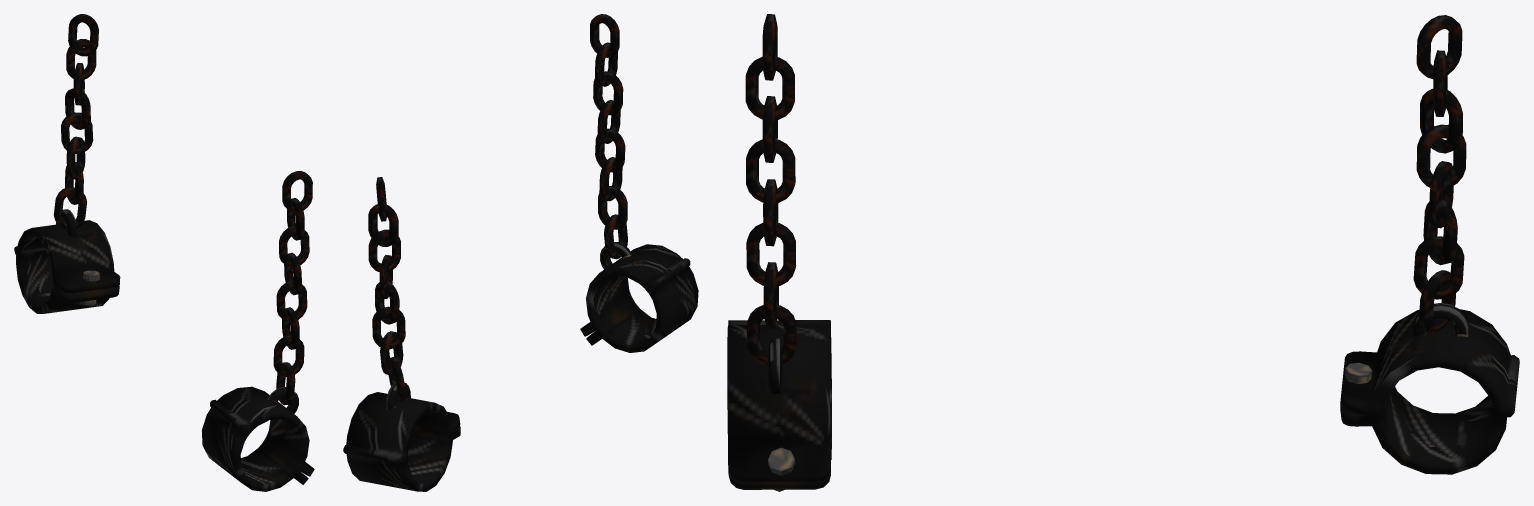
The model's file is Chain_Fixed.fbx.
3 renders of one model, left to right at view 1: azimuth 30°, elevation 25°; view 2: azimuth 150°, elevation 25°; view 3: azimuth 270°, elevation 25°, orthographic. The views are drawn at different scales.
Visible parts, largest first — view 1: Grilletes.003, Grilletes.002, Chains_Main.019, Chains_Main.026; view 2: Grilletes.002, Grilletes.003, Chains_Main.019, Chains_Main.026; view 3: Grilletes.002, Grilletes.003, Chains_Main.026, Chains_Main.019.
Part boxes in pixels (box(x1,y1,x2,y2)): Grilletes.003: box(201, 386, 314, 491); Grilletes.002: box(14, 209, 120, 313); Chains_Main.019: box(273, 171, 312, 405); Chains_Main.026: box(53, 14, 98, 229); Grilletes.002: box(343, 382, 460, 491); Grilletes.003: box(580, 242, 698, 352); Chains_Main.019: box(590, 14, 627, 259); Chains_Main.026: box(368, 177, 406, 401); Grilletes.002: box(1340, 303, 1519, 474); Grilletes.003: box(727, 320, 831, 491); Chains_Main.026: box(1413, 15, 1466, 333); Chains_Main.019: box(745, 14, 796, 365).
Size of the model in its own units: 0.1613 by 0.5237 by 0.78.
